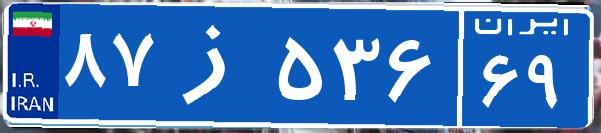3: (330, 28, 385, 110)
5: (273, 28, 330, 110)
6: (385, 28, 445, 110), (475, 38, 525, 113)
7: (110, 28, 158, 105)
8: (57, 26, 110, 107)
9: (525, 38, 570, 115)
ز: (158, 15, 273, 115)
